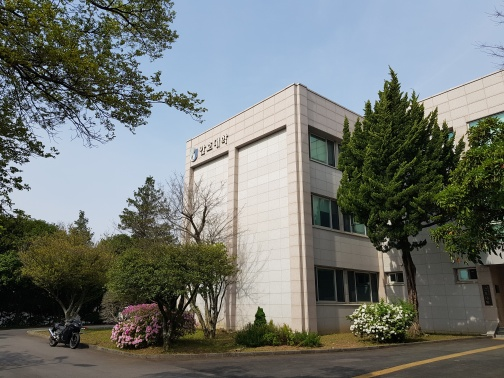College of Nursing: (159, 71, 486, 338), (189, 132, 232, 169)
